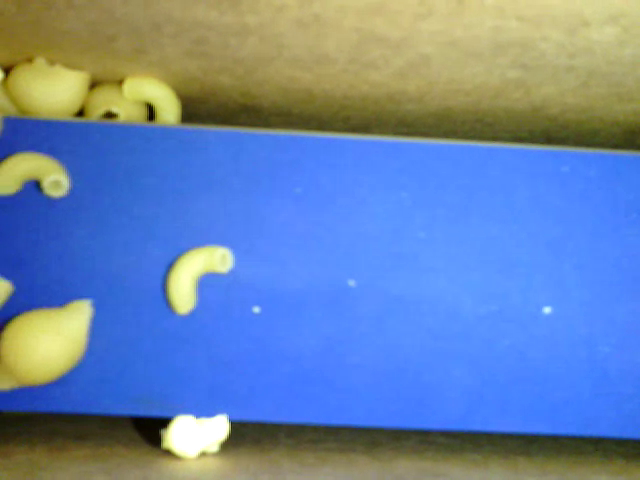elbow: (164, 243, 235, 317), (122, 74, 185, 125), (2, 153, 69, 197)
shell: (1, 298, 94, 396), (5, 55, 90, 120), (88, 80, 151, 122)
